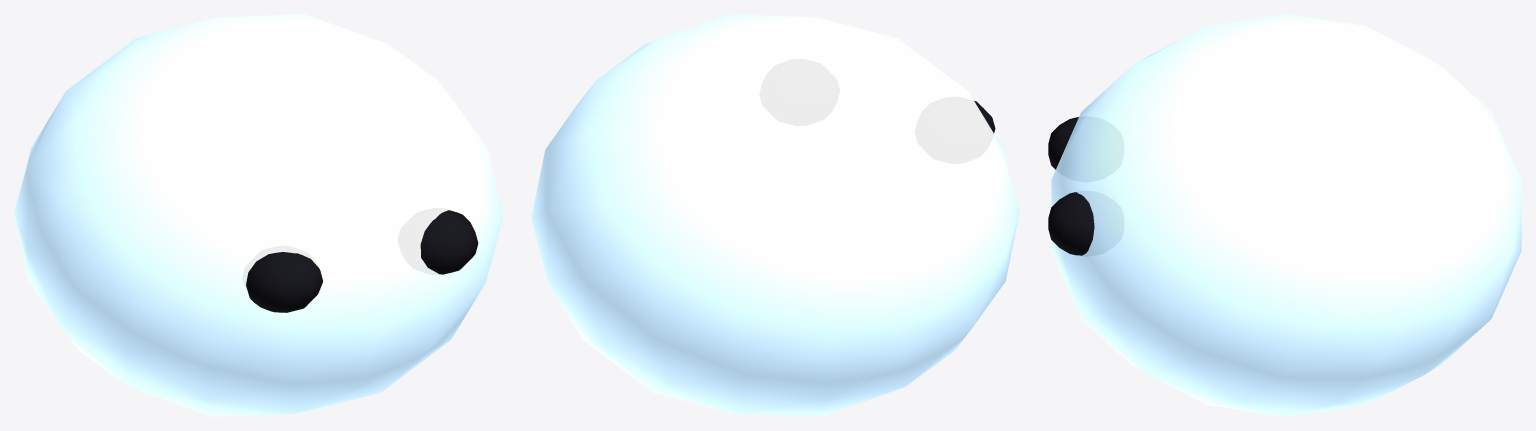
The model's file is snowier.glb.
The picture shows the model from 3 angles, left to right: view 1: azimuth 30°, elevation 25°; view 2: azimuth 150°, elevation 25°; view 3: azimuth 270°, elevation 25°; orthographic projection.
Visible parts, largest first — view 1: core; view 2: core; view 3: core.
Part boxes in pixels (x1,y1,x2,y2): core: (14, 14, 502, 416); core: (531, 14, 1019, 416); core: (1048, 14, 1521, 416).
Size of the model in its own units: 1.18 by 0.9403 by 1.18.
